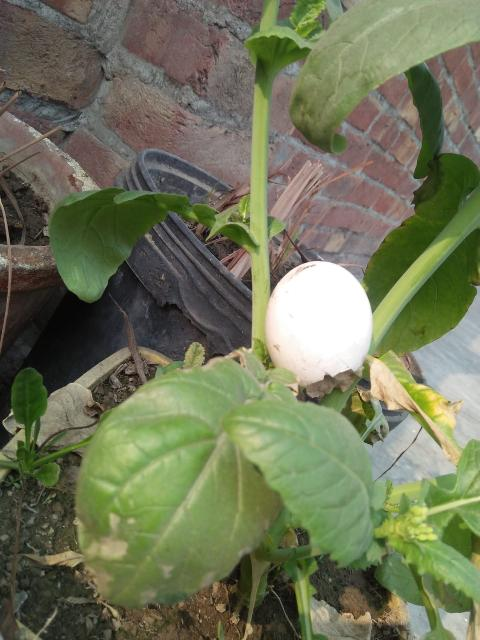Roto: (264, 259, 373, 389)
